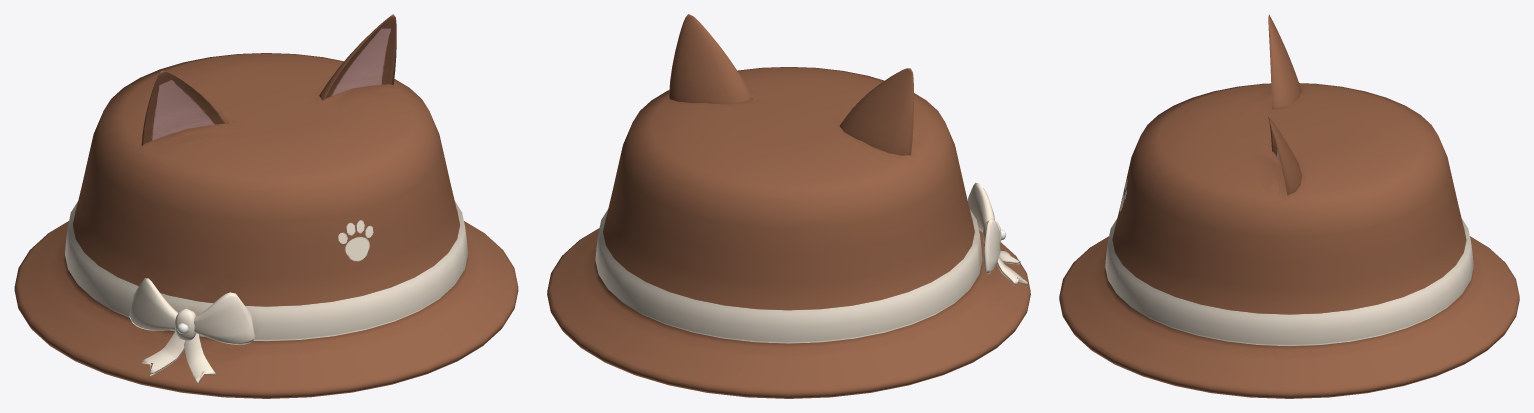
The model's file is NekoBucketHat_Choco.fbx.
The picture shows the model from 3 angles, left to right: view 1: azimuth 30°, elevation 25°; view 2: azimuth 150°, elevation 25°; view 3: azimuth 270°, elevation 25°; orthographic projection. The views are drawn at different scales.
Parts seen in each view (by area): view 1: NekoBucketHat; view 2: NekoBucketHat; view 3: NekoBucketHat.
Part boxes in pixels (bbox=[...]): NekoBucketHat: bbox=[14, 14, 518, 398]; NekoBucketHat: bbox=[547, 14, 1030, 398]; NekoBucketHat: bbox=[1059, 14, 1519, 398].
Bounding box in the file's own units: 1.74 × 0.9888 × 1.74.
1 material, 1 textured.
